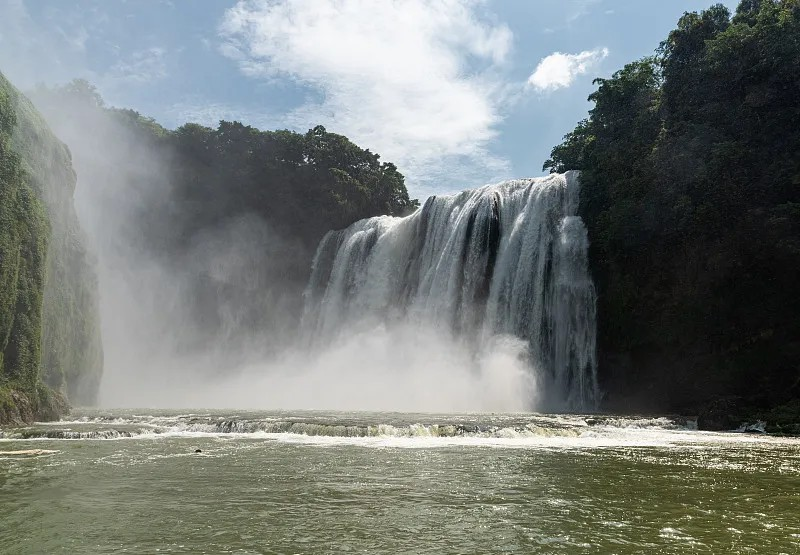Huangguoshu: (303, 171, 603, 415)
